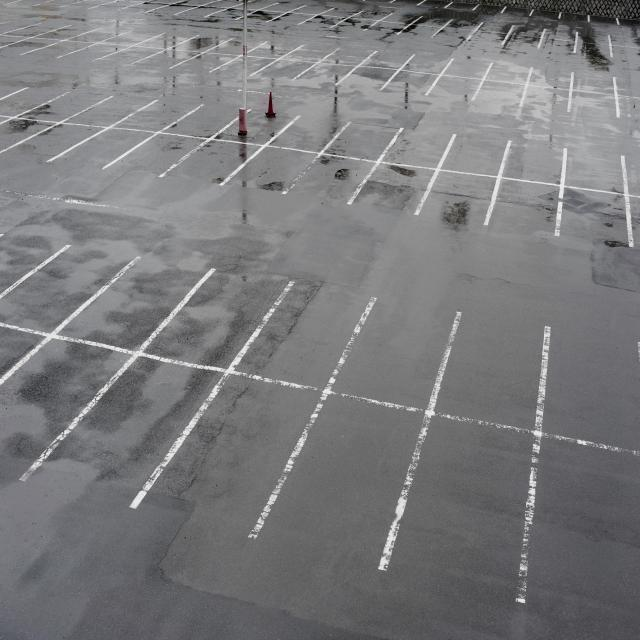space-empty: (19, 345, 235, 512), (323, 292, 468, 420), (421, 304, 555, 438), (50, 252, 219, 356), (0, 238, 141, 336), (101, 125, 218, 186), (415, 167, 506, 226), (212, 89, 304, 145)
